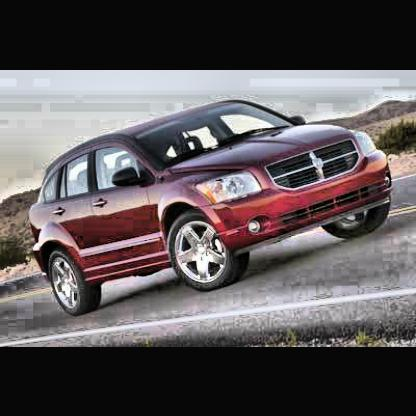Dodge Caliber Wagon 2007: (30, 99, 394, 318)
